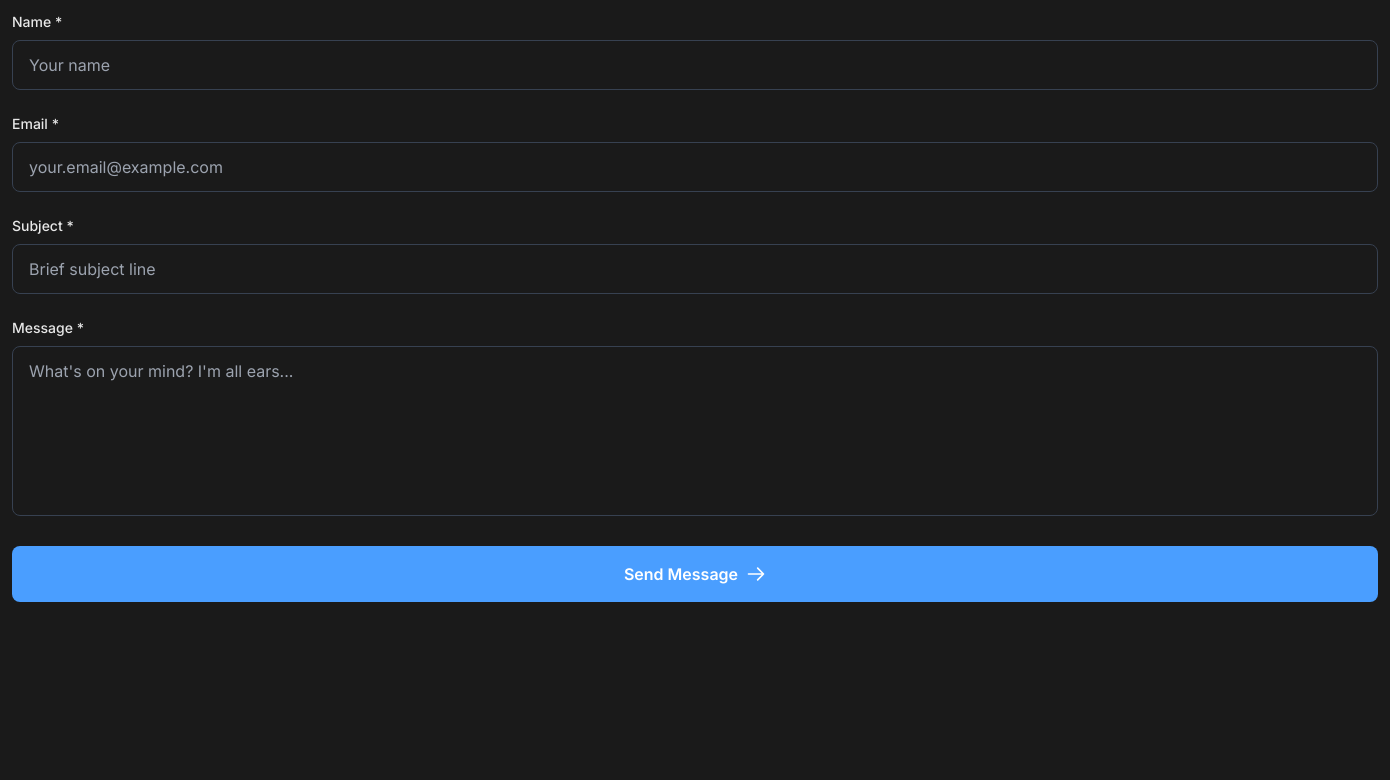
ContactForm › Success Handling › displays success message after successful submission
Step 1. Type "John Doe" into the field labelled "Name *" → point(695, 65), box x1=12 y1=40 x2=1378 y2=90
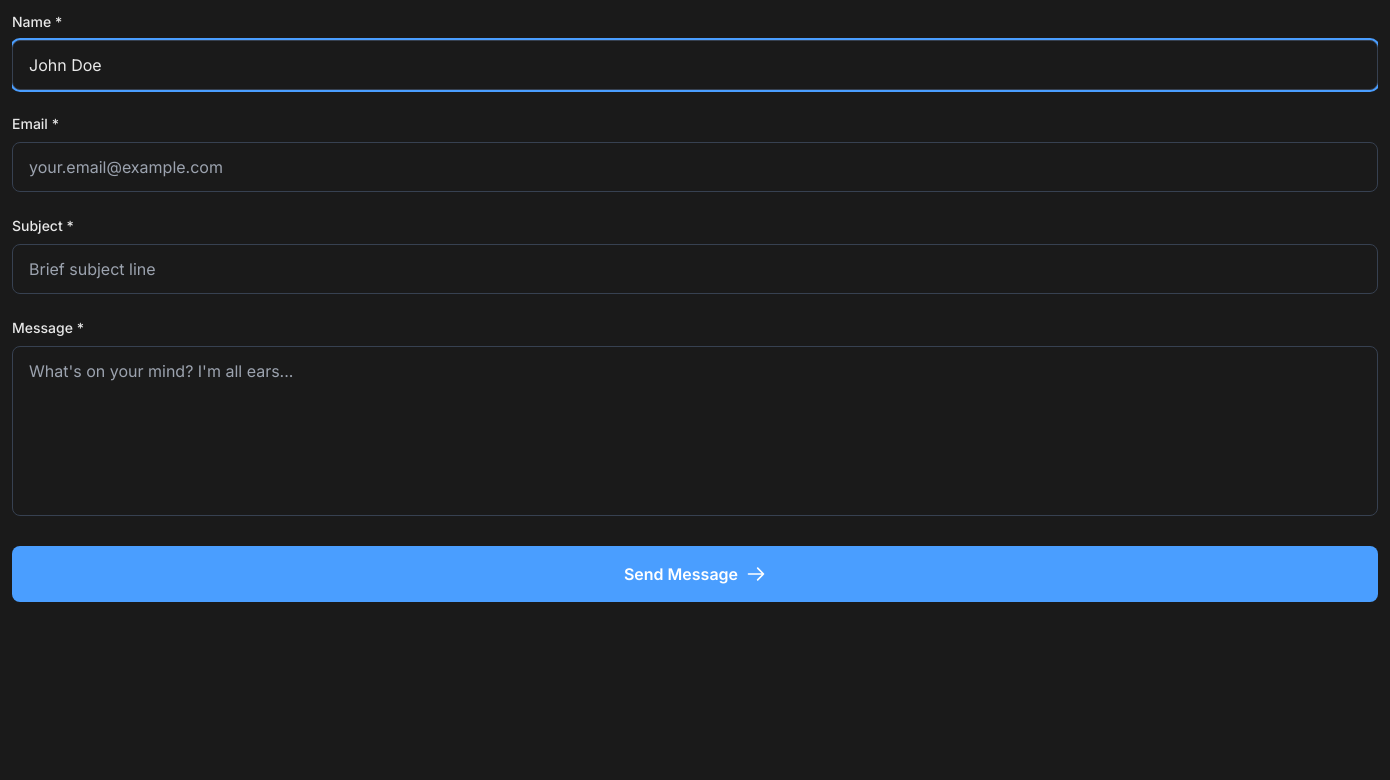
Step 2. Type "john@example.com" into the field labelled "Email *" → point(695, 167), box x1=12 y1=142 x2=1378 y2=192
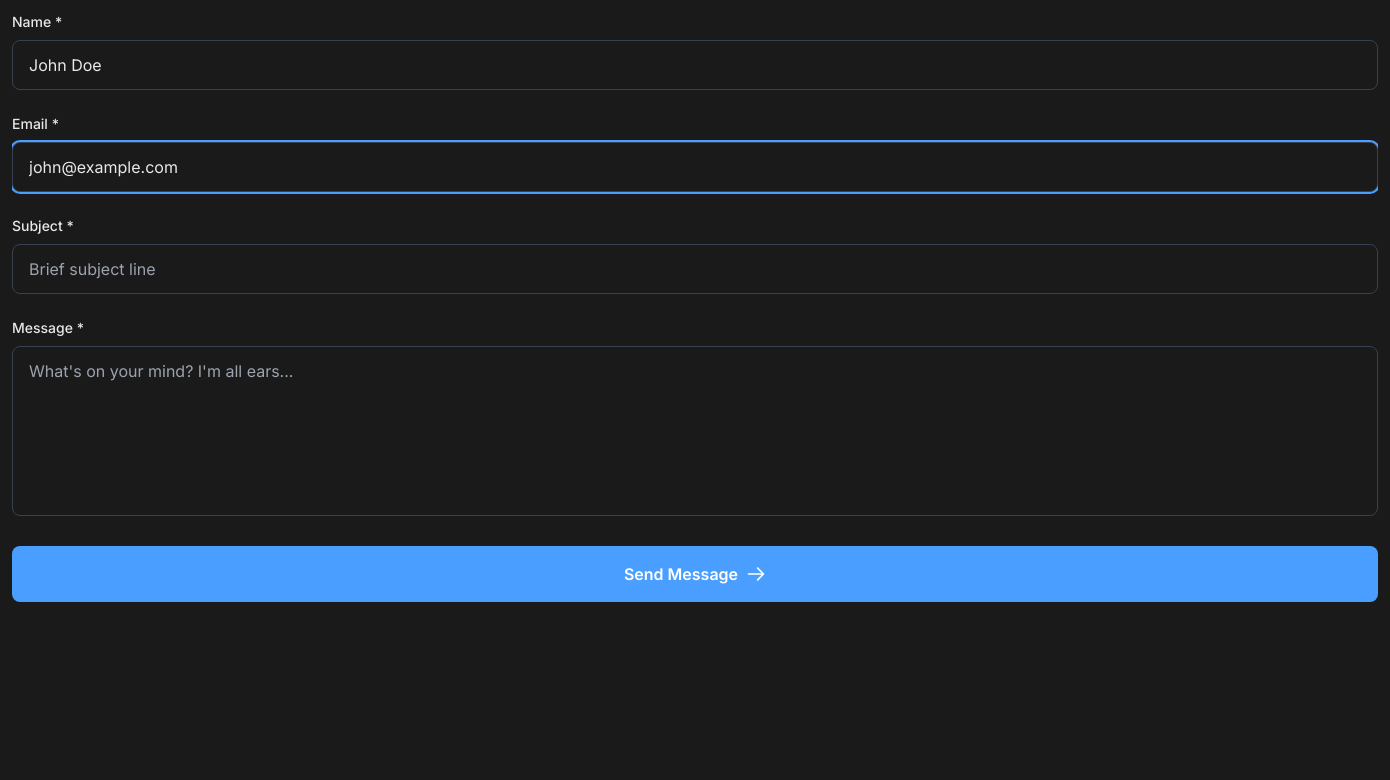
Step 3. Type "Test Subject" into the field labelled "Subject *" → point(695, 269), box x1=12 y1=244 x2=1378 y2=294
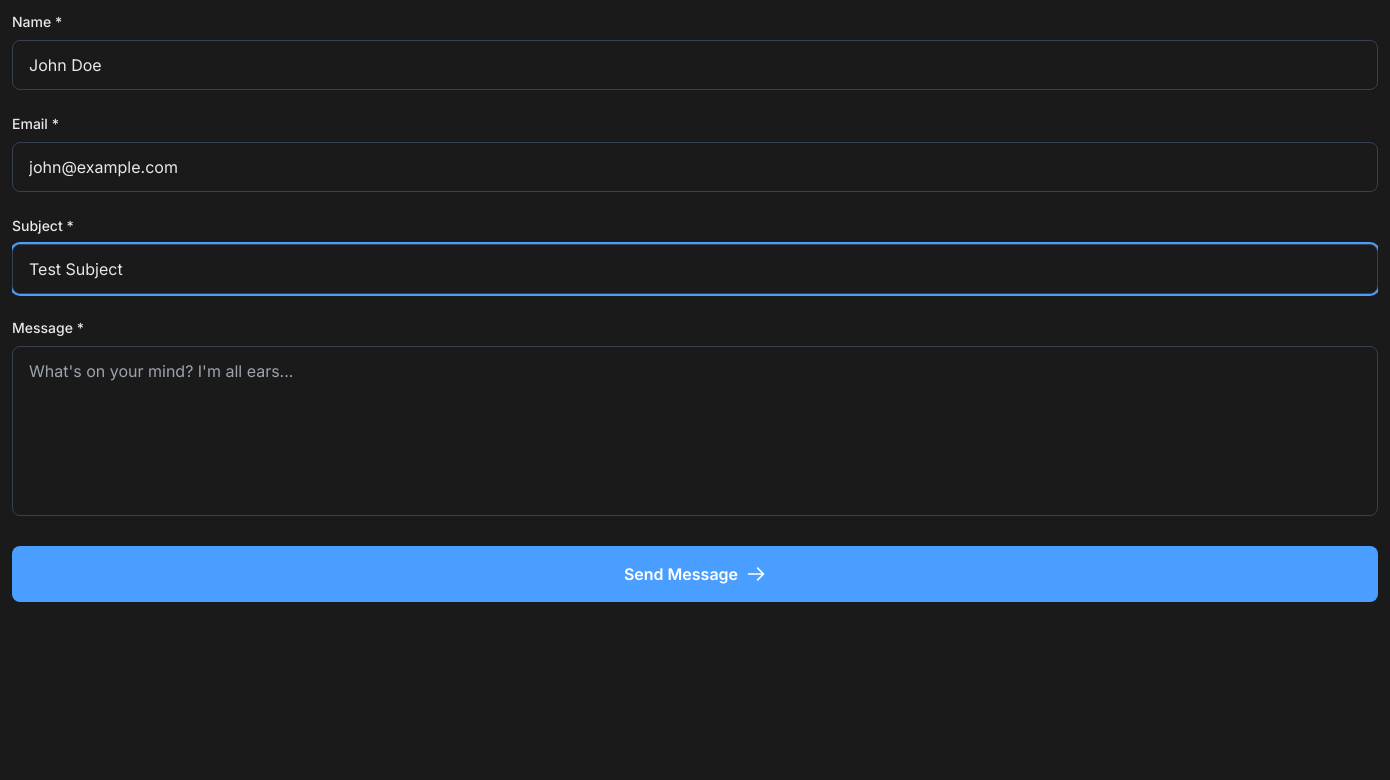
Step 4. Type "Test Message" into the text box labelled "Message *" → point(695, 431), box x1=12 y1=346 x2=1378 y2=516
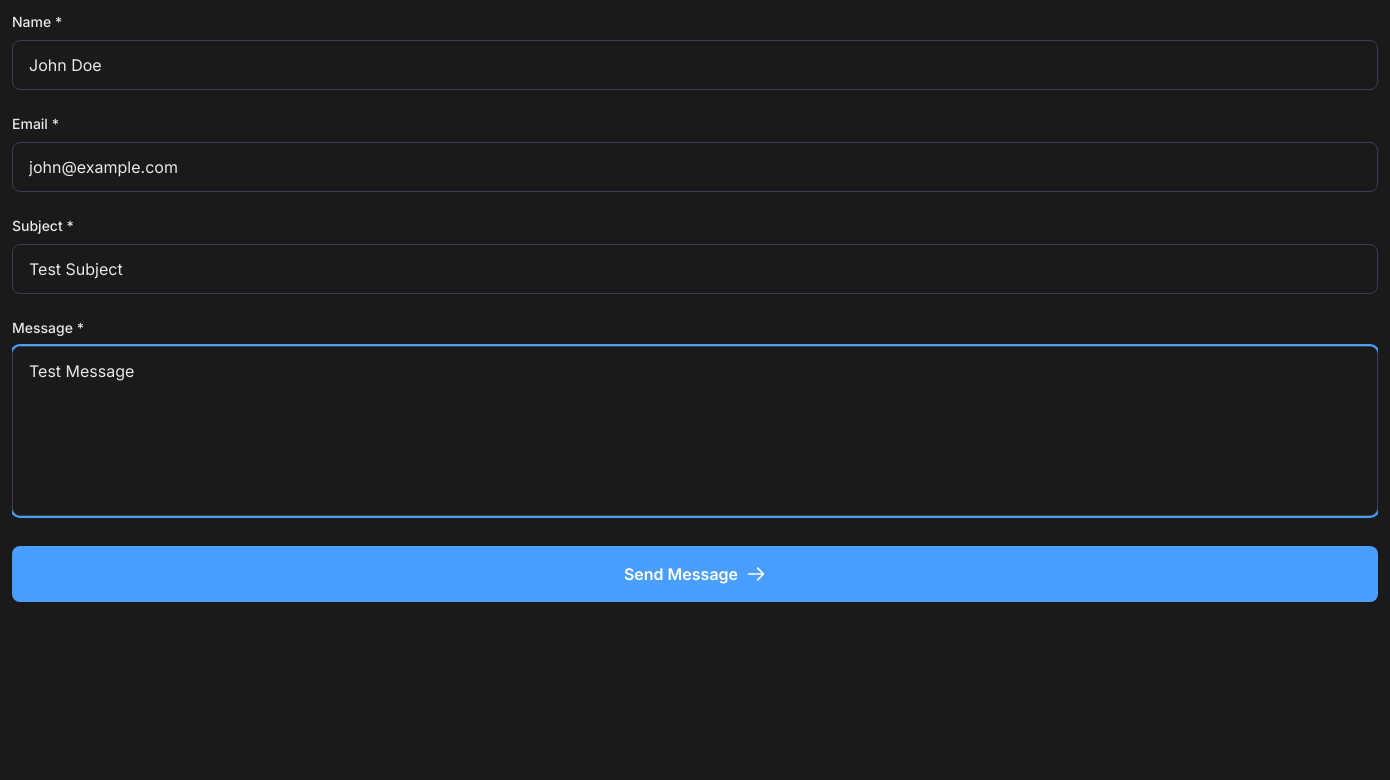
Step 5. Click the button "Send Message" → point(695, 574), box x1=12 y1=546 x2=1378 y2=602
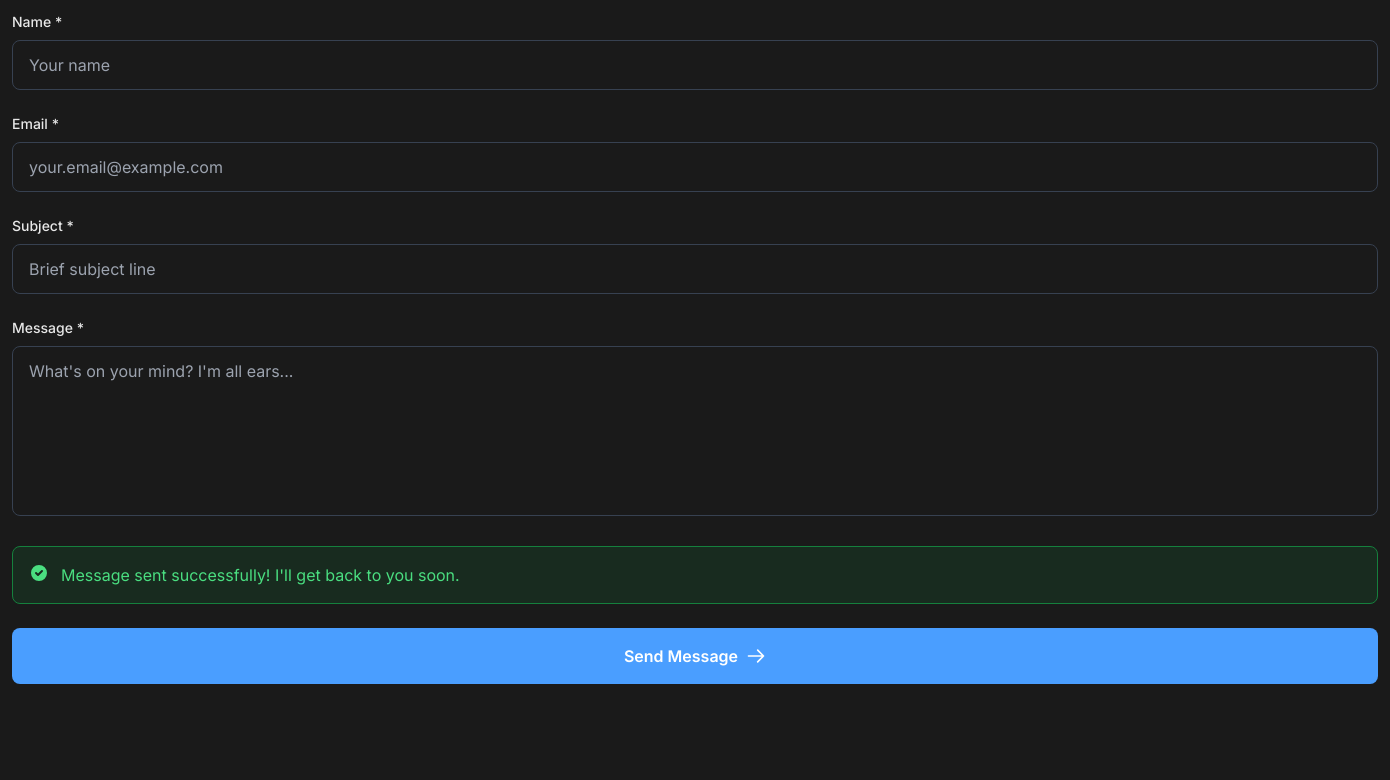
Expected: the text "Message sent successfully! I'll get back to you soon." is shown, x1=61 y1=565 x2=460 y2=585
